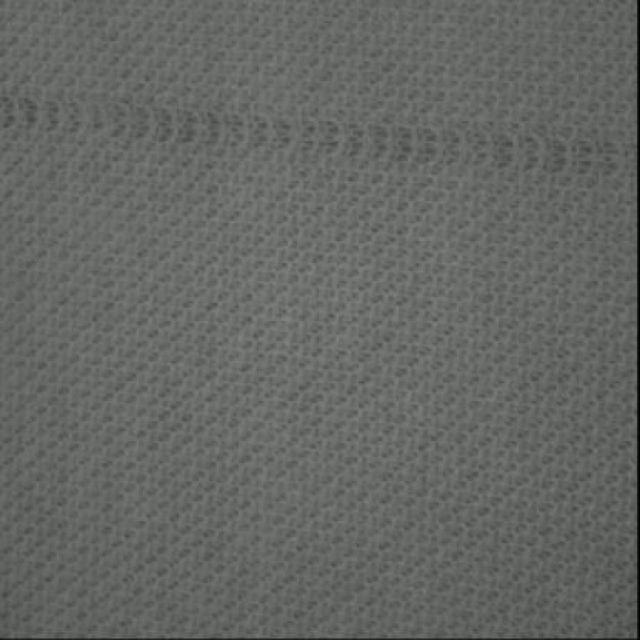Line: (0, 93, 636, 181)
